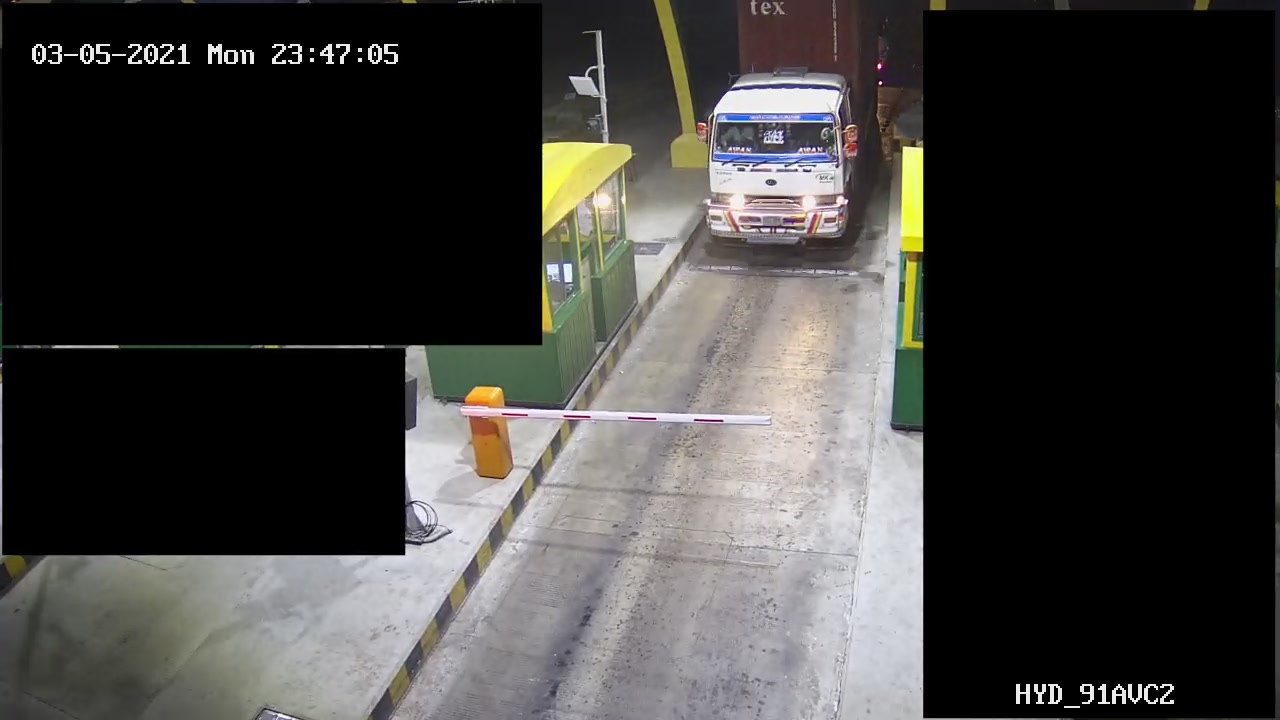F6: (701, 1, 883, 262)
